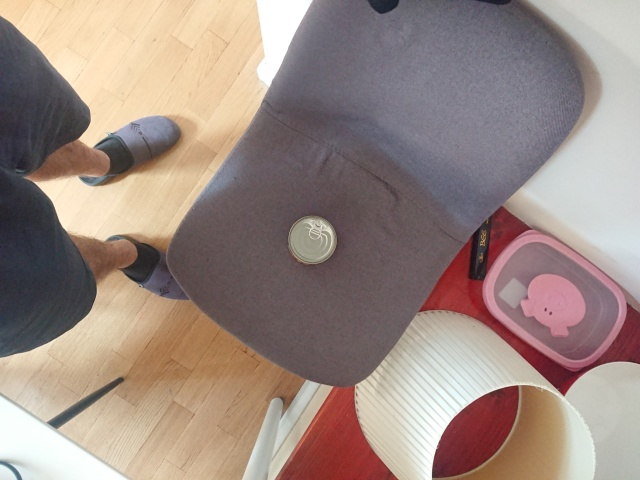Giana Tuna Salad Mexico 185g: (285, 212, 339, 267)
